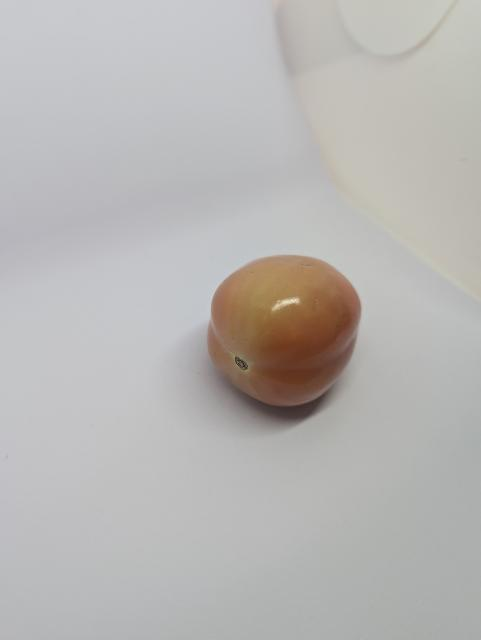turning: (197, 246, 378, 419)
